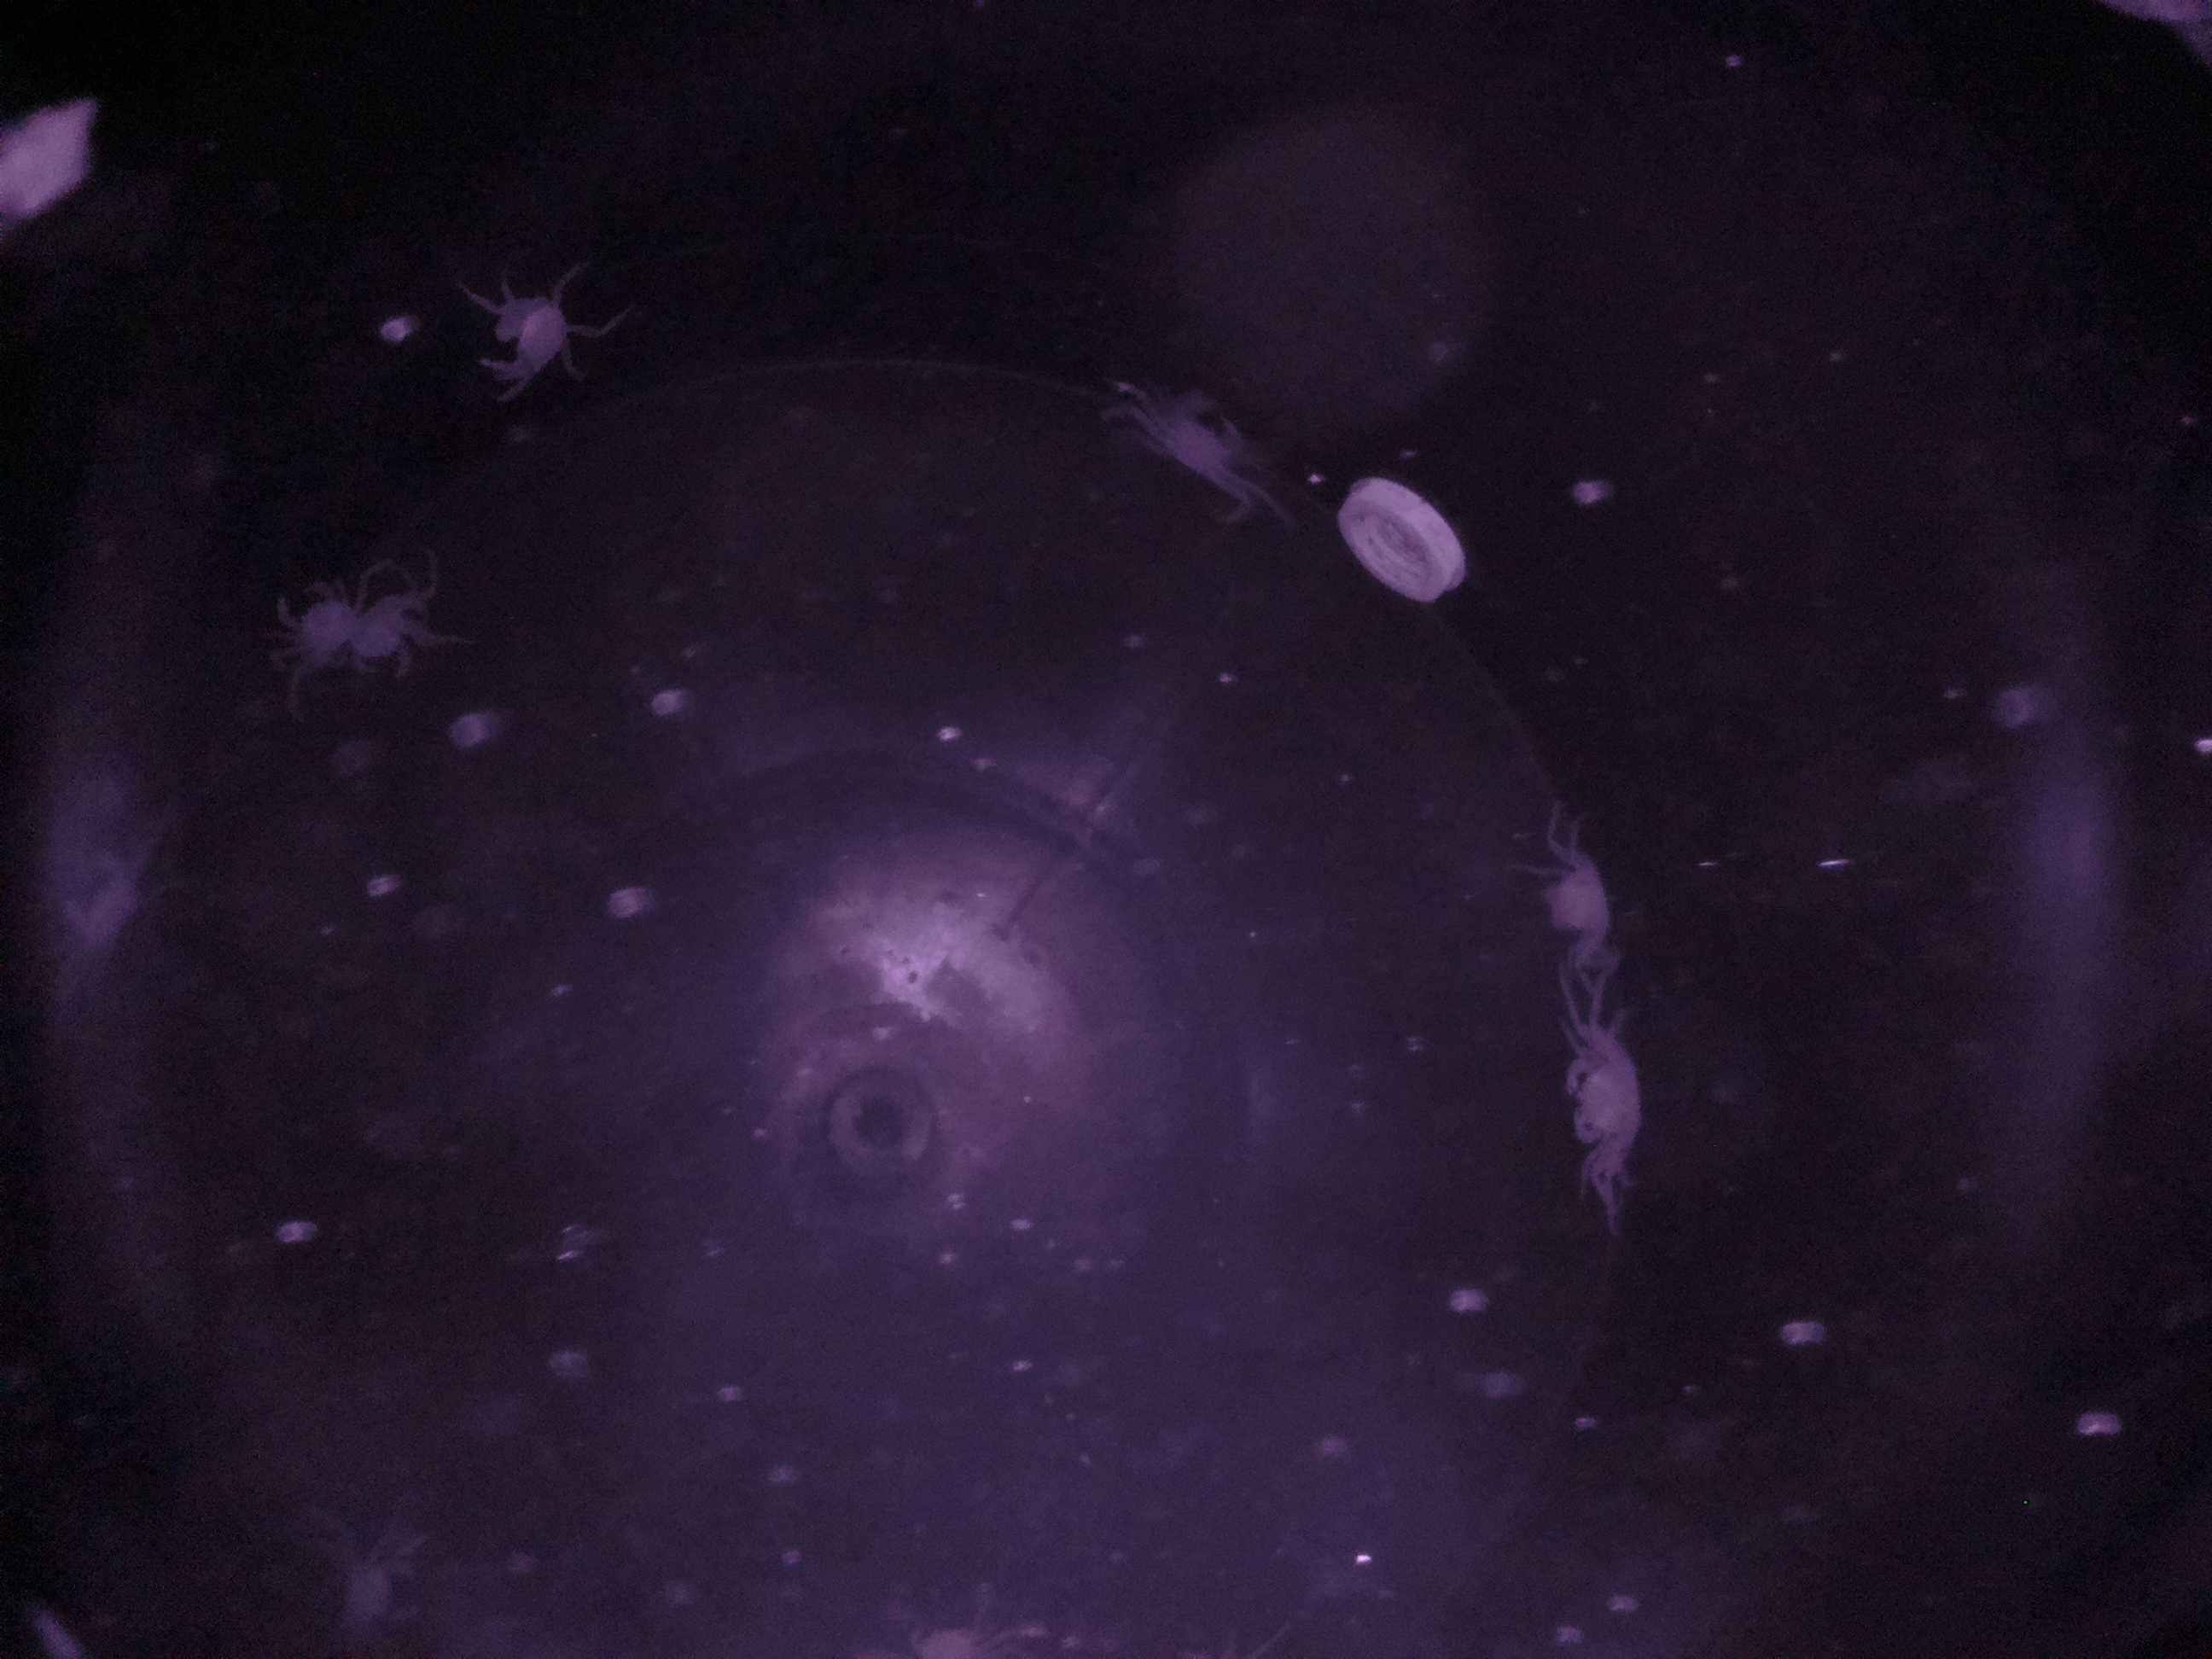Crab: (1550, 1026, 1681, 1166)
